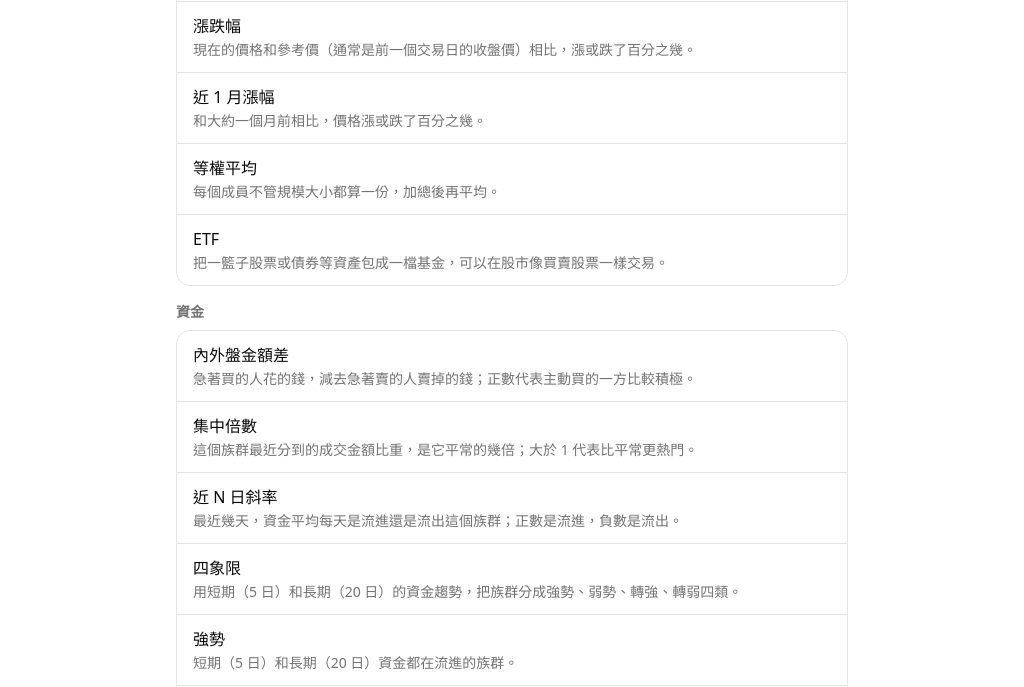
Scenario: GlossaryScreen › opens the panel for a listed term, in the stored lens
(page scrolled)
What coordinates should you click on to do the following:
click the button "內外盤金額差 急著買的人花的錢，減去急著賣的人賣掉的錢；正數代表主動買的一方比較積極。"
I would click on:
 (512, 366)
Its box is [177, 331, 847, 401].
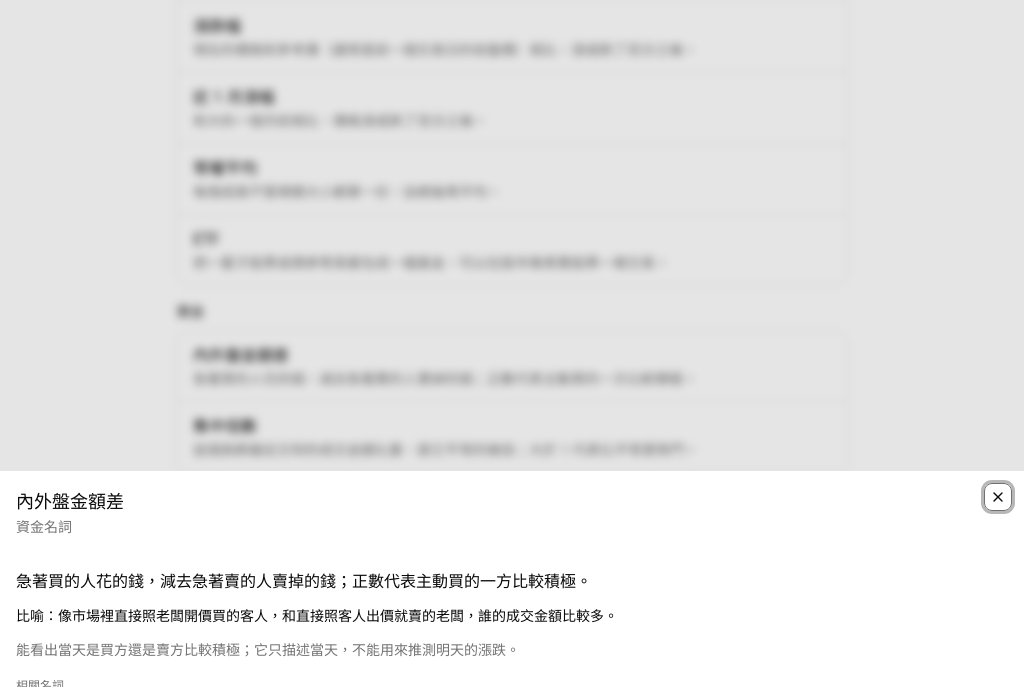
Result: the text "能看出當天是買方還是賣方比較積極；它只描述當天，不能用來推測明天的漲跌。" is shown at [16, 640, 520, 659]
